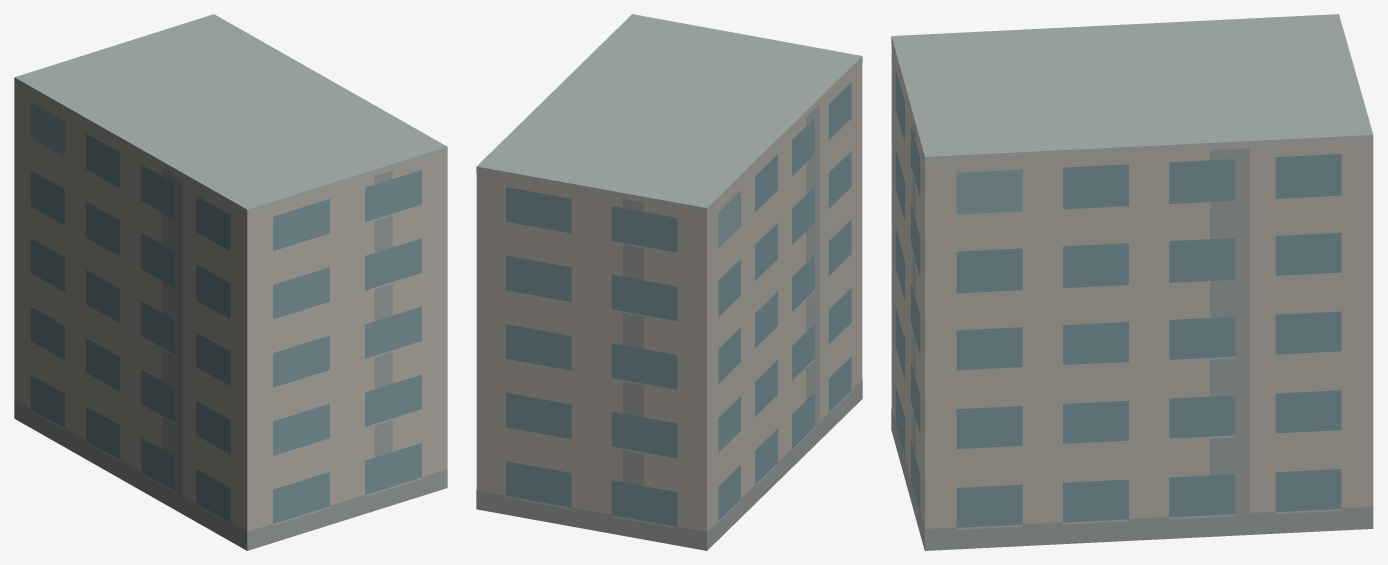
Rendered from survey-upis-32887509.glb.
3 renders of one model, left to right at view 1: azimuth 30°, elevation 25°; view 2: azimuth 150°, elevation 25°; view 3: azimuth 270°, elevation 25°, orthographic. The views are drawn at different scales.
Visible parts, largest first — view 1: survey-upis-32887509.tmp; view 2: survey-upis-32887509.tmp; view 3: survey-upis-32887509.tmp.
Boxes of the visible parts, <box> form: survey-upis-32887509.tmp: <box>14,14,447,550</box>; survey-upis-32887509.tmp: <box>476,14,862,550</box>; survey-upis-32887509.tmp: <box>891,14,1373,550</box>.
Bounding box in the file's own units: 10.17 × 13.05 × 14.48.
